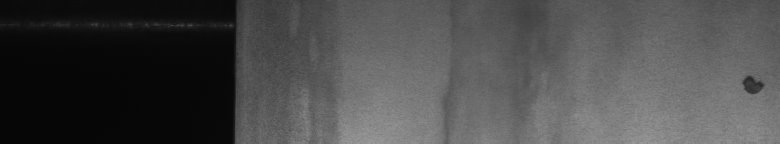fi: (736, 69, 768, 100)
